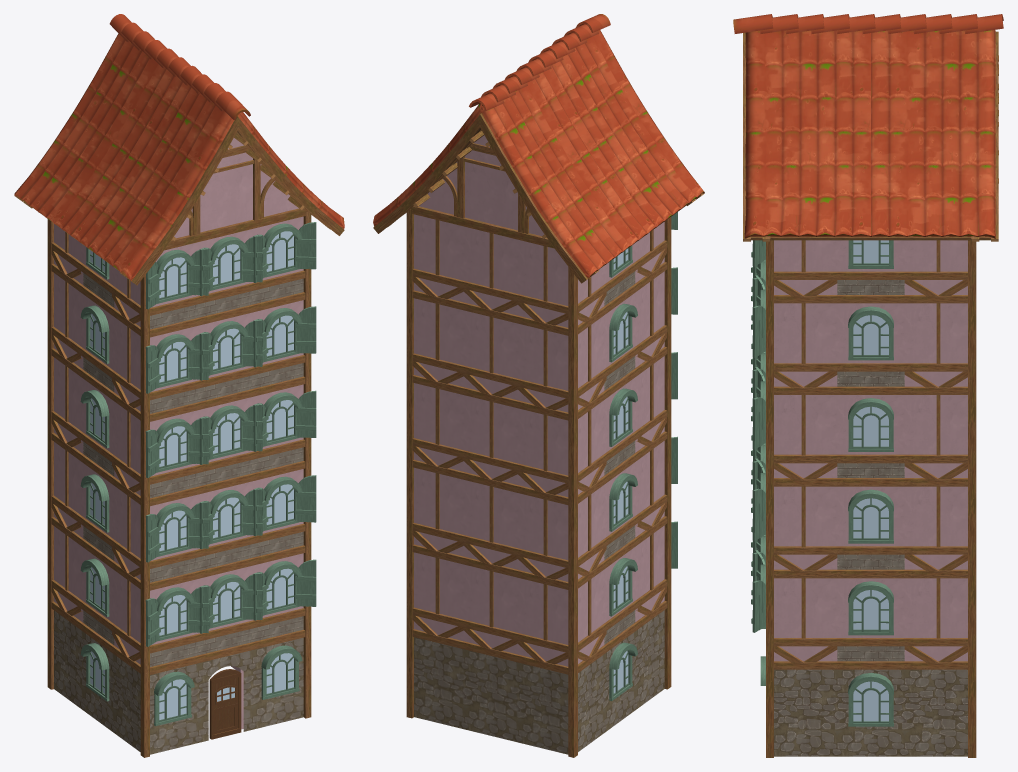
Rendered from office_tower_pink.glb.
3 views of the same model, side by side, from view 1: azimuth 30°, elevation 25°; view 2: azimuth 150°, elevation 25°; view 3: azimuth 270°, elevation 25° (orthographic). The views are drawn at different scales.
Parts seen in each view (by area): view 1: Wall_UnevenBrick_Window_Wide_Round, Window_Wide_Round1, Roof_RoundTiles_6x6, Wall_UnevenBrick_Door_Round, Wall_Plaster_Window_Wide_Round; view 2: Wall_UnevenBrick_Window_Wide_Round, Wall_UnevenBrick_Door_Round, Roof_RoundTiles_6x6, Window_Wide_Round1, Wall_Plaster_Window_Wide_Round; view 3: Wall_UnevenBrick_Window_Wide_Round, Roof_RoundTiles_6x6, Wall_UnevenBrick_Door_Round, Window_Wide_Round1, Wall_Plaster_Window_Wide_Round.
Boxes of the visible parts, bbox=[...] form: Wall_UnevenBrick_Window_Wide_Round: bbox=[14, 116, 344, 754]; Window_Wide_Round1: bbox=[80, 222, 316, 726]; Roof_RoundTiles_6x6: bbox=[14, 14, 344, 280]; Wall_UnevenBrick_Door_Round: bbox=[47, 133, 311, 757]; Wall_Plaster_Window_Wide_Round: bbox=[83, 273, 303, 666]; Wall_UnevenBrick_Window_Wide_Round: bbox=[373, 113, 704, 732]; Wall_UnevenBrick_Door_Round: bbox=[406, 131, 671, 757]; Roof_RoundTiles_6x6: bbox=[373, 14, 704, 278]; Window_Wide_Round1: bbox=[609, 212, 677, 701]; Wall_Plaster_Window_Wide_Round: bbox=[604, 271, 635, 644]; Wall_UnevenBrick_Window_Wide_Round: bbox=[743, 31, 998, 756]; Roof_RoundTiles_6x6: bbox=[733, 14, 1003, 238]; Wall_UnevenBrick_Door_Round: bbox=[766, 55, 998, 757]; Window_Wide_Round1: bbox=[751, 240, 893, 726]; Wall_Plaster_Window_Wide_Round: bbox=[837, 280, 904, 661].
Size of the model in its own units: 8.25 by 22.89 by 8.03.
7 materials, 6 textured.
